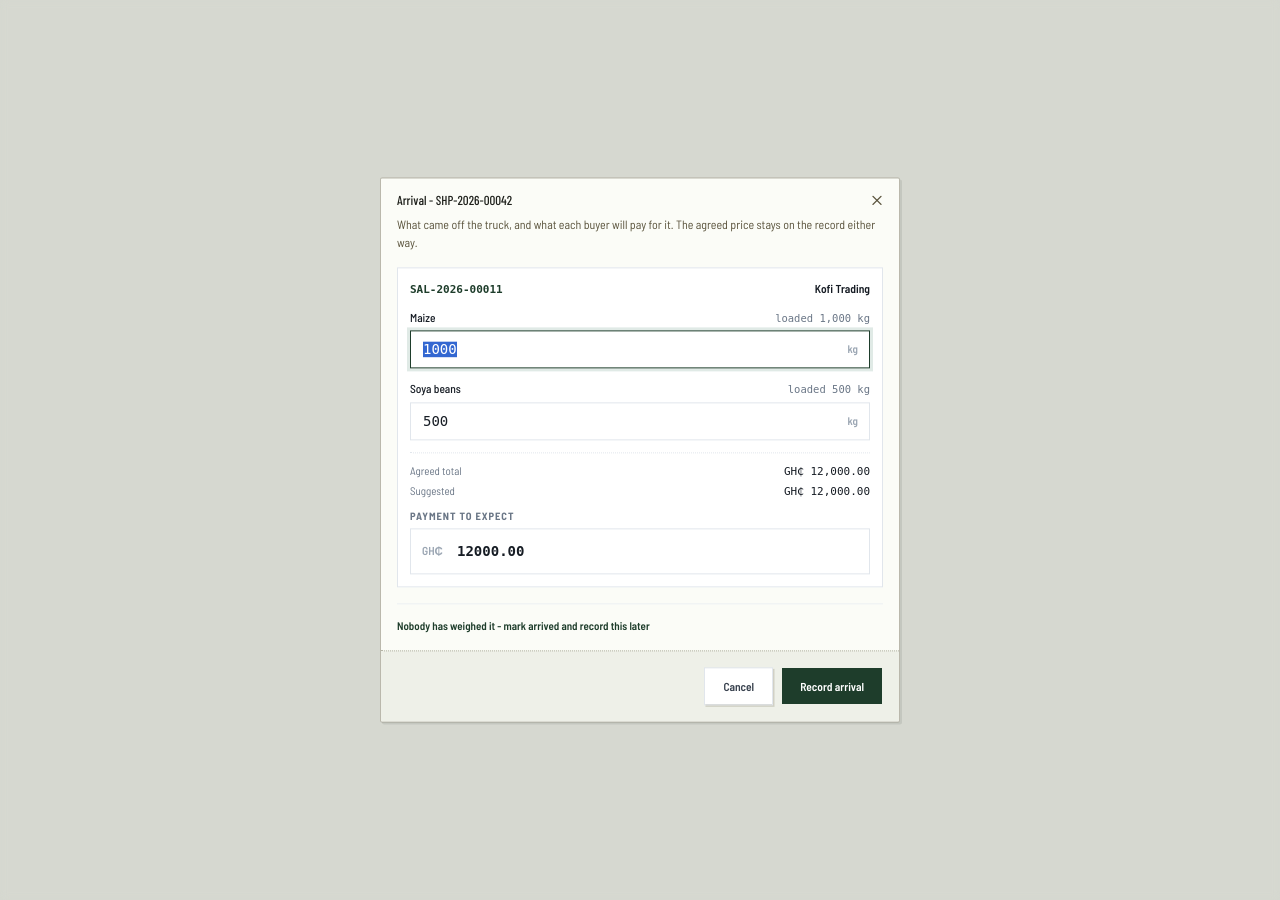
Test: ArrivalDialog › keeps a figure the admin typed over, and can offer the suggestion back
Replace the text in the field labelled "Payment to expect" with "11500": (640, 551) x1=410 y1=528 x2=870 y2=574
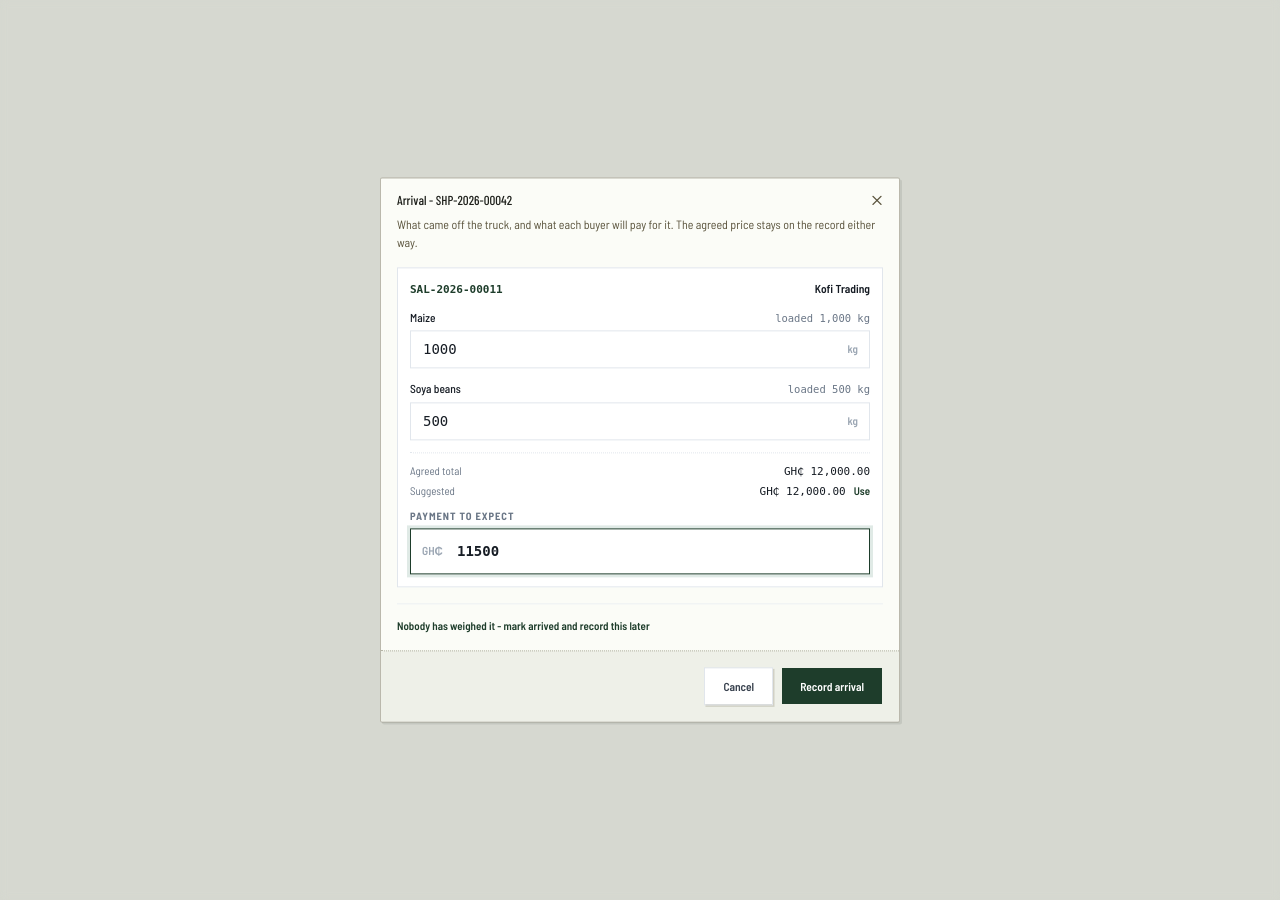
Clear the field named "Received Maize": (640, 350) x1=410 y1=331 x2=870 y2=369
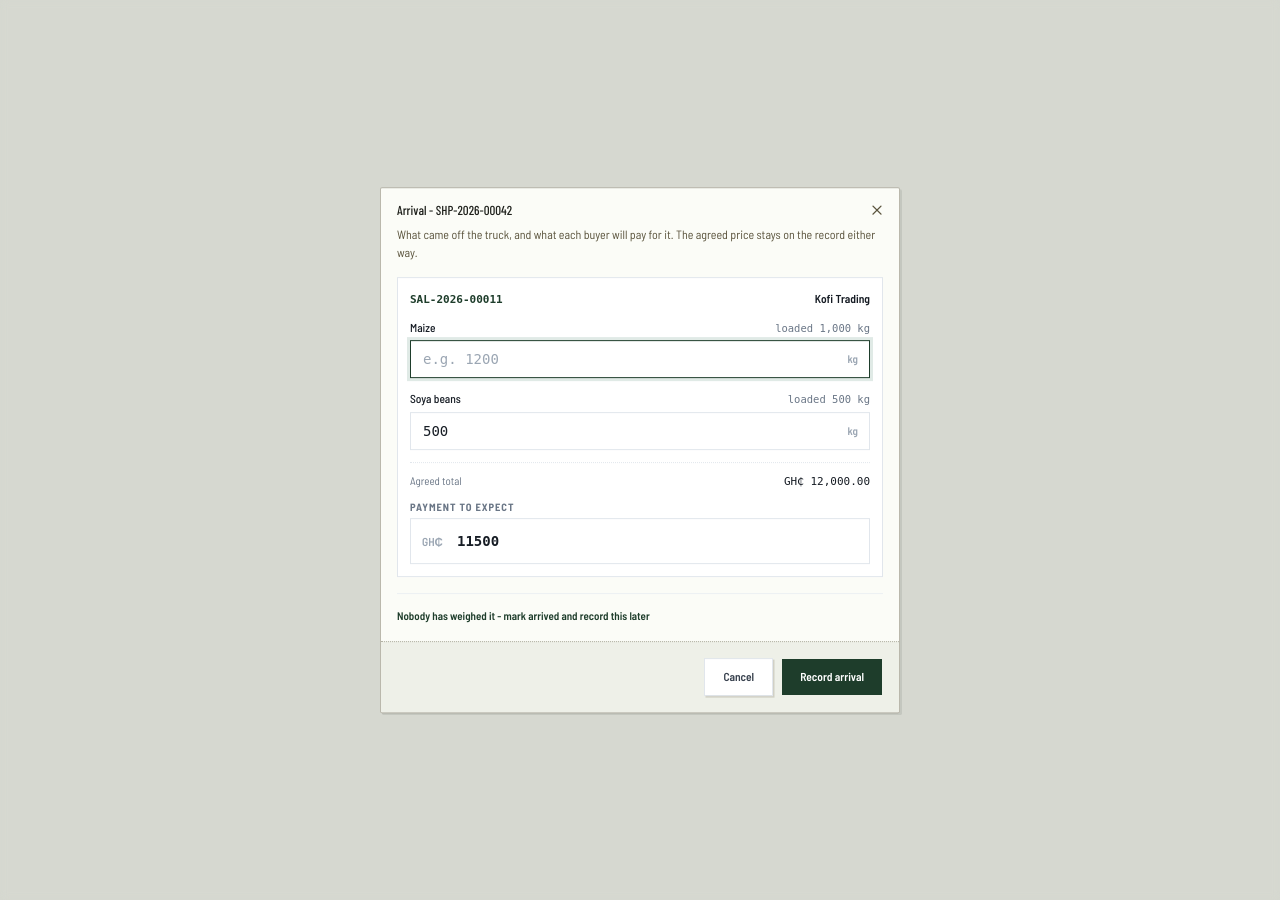
In the field named "Received Maize": (640, 359) x1=410 y1=340 x2=870 y2=378, type "976"
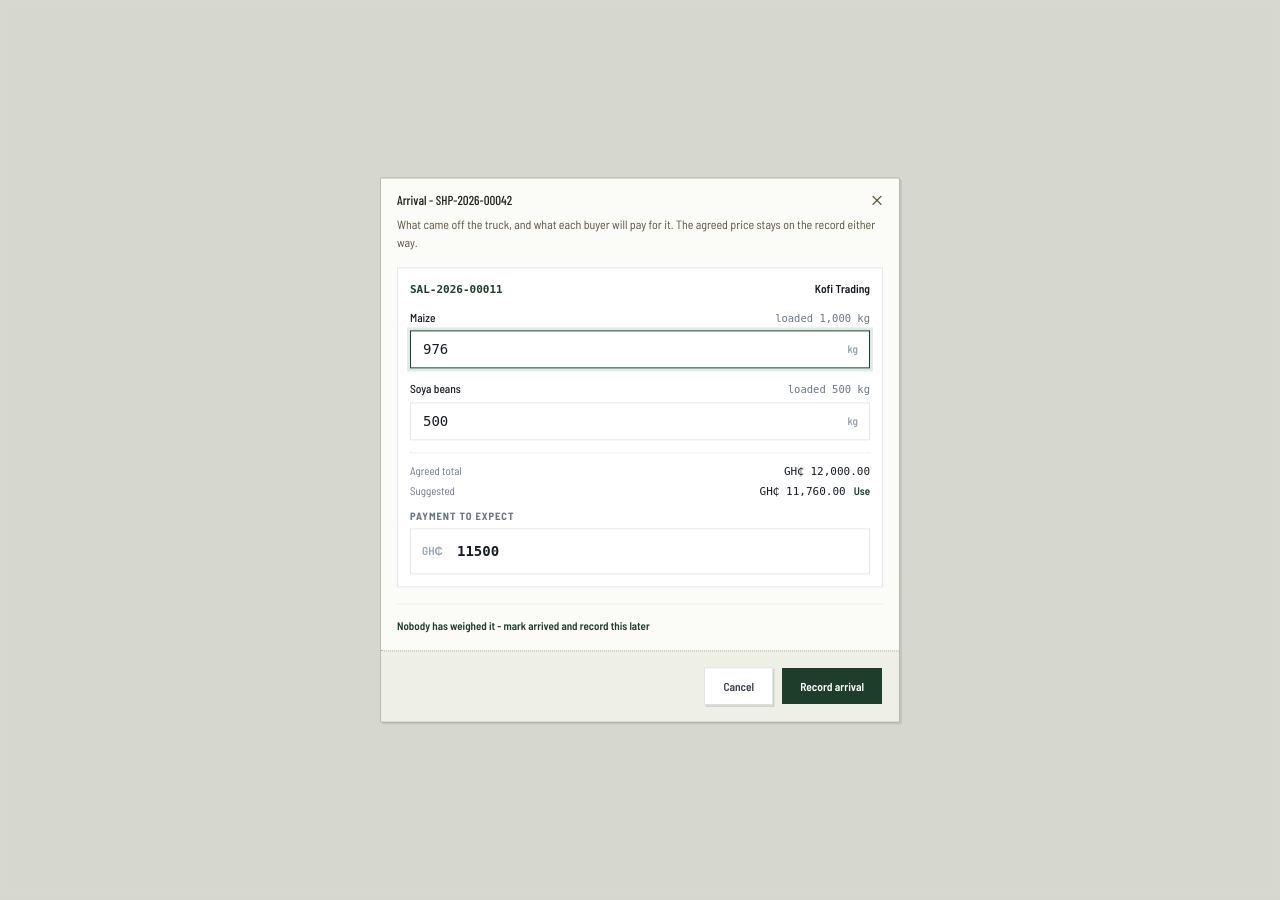
Click the button "Use": (862, 491) x1=854 y1=483 x2=870 y2=499
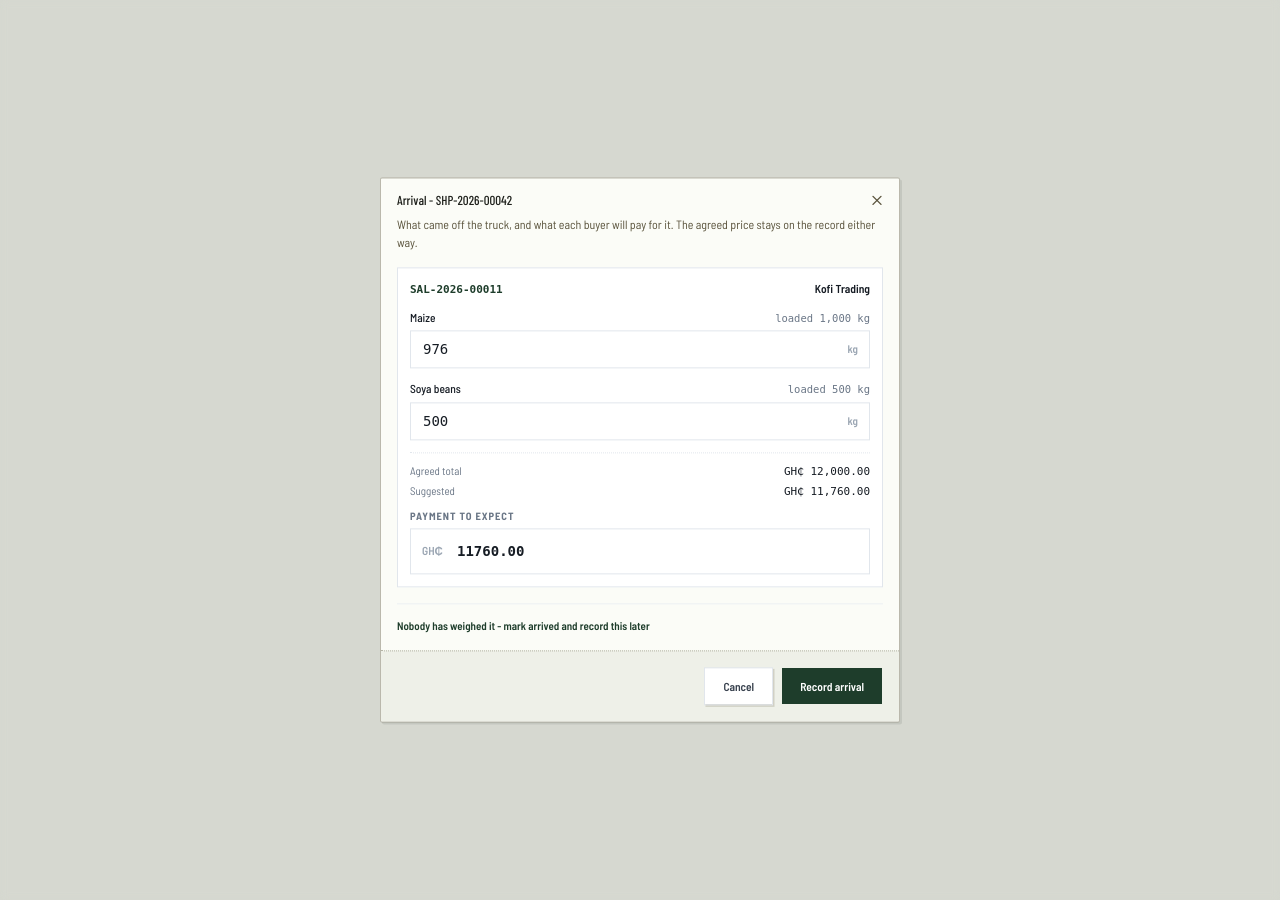
Result: the field labelled "Payment to expect" holds "11760.00" at x1=410 y1=528 x2=870 y2=574
